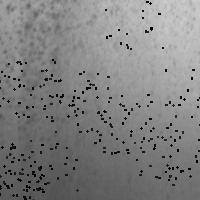pitted_surface: (1, 1, 103, 135), (117, 1, 195, 54), (50, 71, 109, 131), (94, 94, 154, 152), (16, 140, 76, 198), (0, 59, 54, 116), (127, 123, 180, 179), (0, 143, 51, 200), (105, 0, 162, 48), (155, 124, 200, 184), (165, 69, 200, 127), (0, 153, 41, 200)
